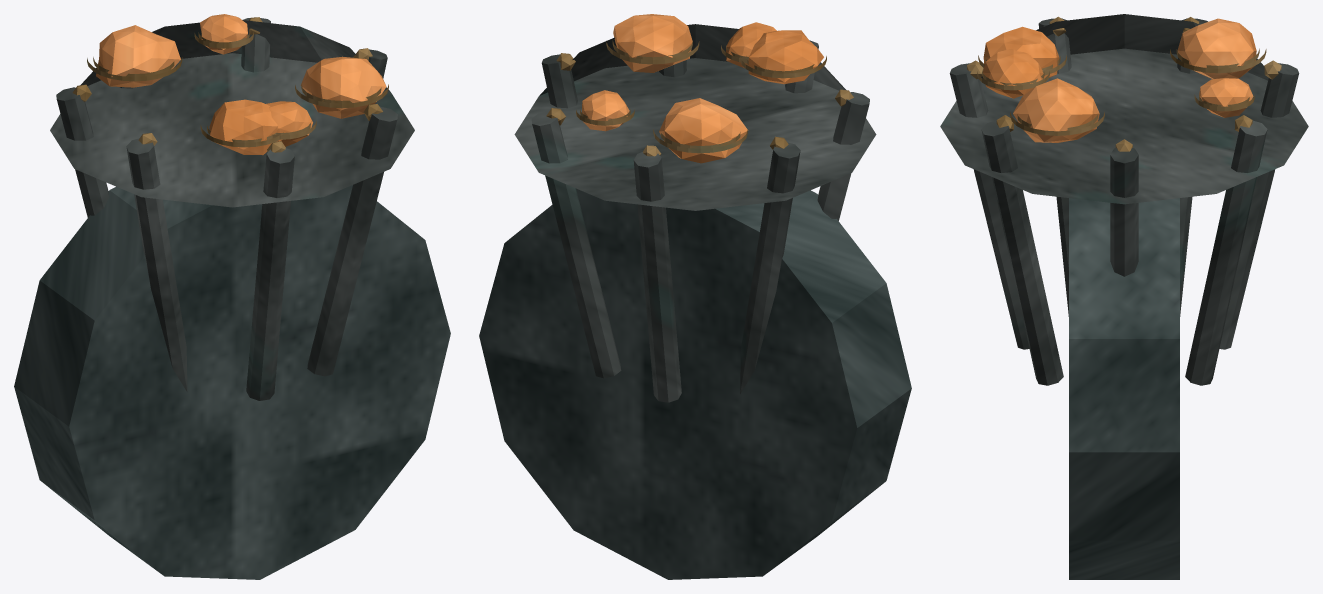
The model's file is 0534_brazier_09.glb.
The picture shows the model from 3 angles, left to right: view 1: azimuth 30°, elevation 25°; view 2: azimuth 150°, elevation 25°; view 3: azimuth 270°, elevation 25°; orthographic projection.
Parts seen in each view (by area): view 1: stone_dark, iron, amber, brass; view 2: stone_dark, iron, amber, brass; view 3: iron, stone_dark, amber, brass.
Boxes of the visible parts, bbox=[...] form: stone_dark: bbox=[14, 185, 450, 579]; iron: bbox=[50, 18, 414, 400]; amber: bbox=[96, 14, 386, 155]; brass: bbox=[72, 17, 388, 152]; stone_dark: bbox=[479, 188, 911, 579]; iron: bbox=[514, 24, 876, 402]; amber: bbox=[582, 14, 823, 163]; brass: bbox=[546, 40, 853, 156]; iron: bbox=[940, 14, 1308, 385]; stone_dark: bbox=[1069, 198, 1179, 579]; amber: bbox=[983, 18, 1256, 142]; brass: bbox=[966, 16, 1281, 151].
Bounding box in the file's own units: 1.4 × 1.78 × 1.16.
4 materials, 4 textured.
